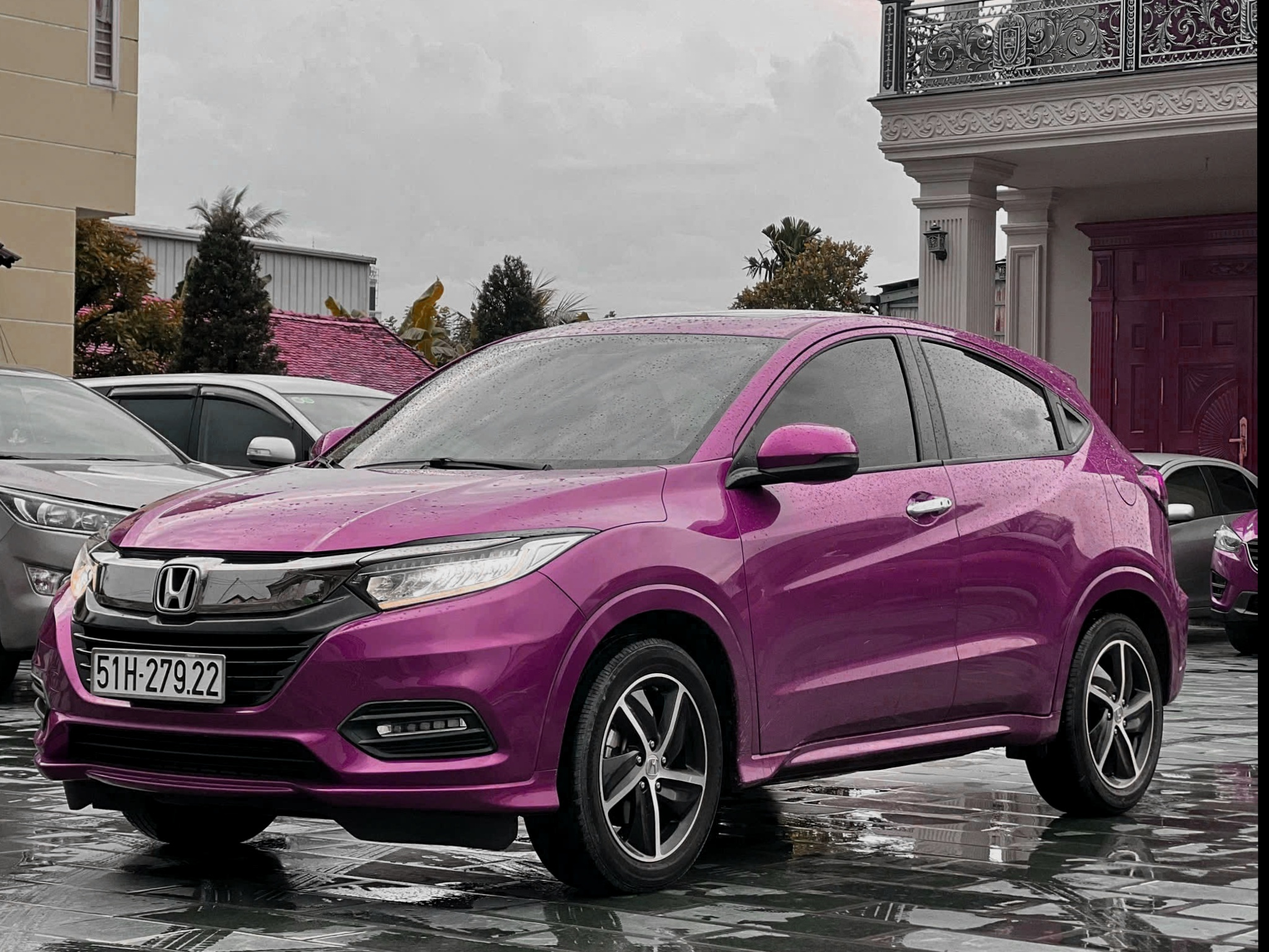Bien-so: (89, 651, 226, 699)
